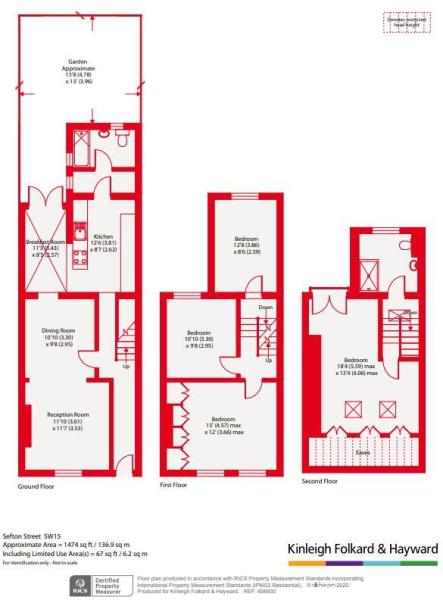GardenMeasurements: (55, 51, 101, 91)
GrossArea: (1, 541, 133, 549)
